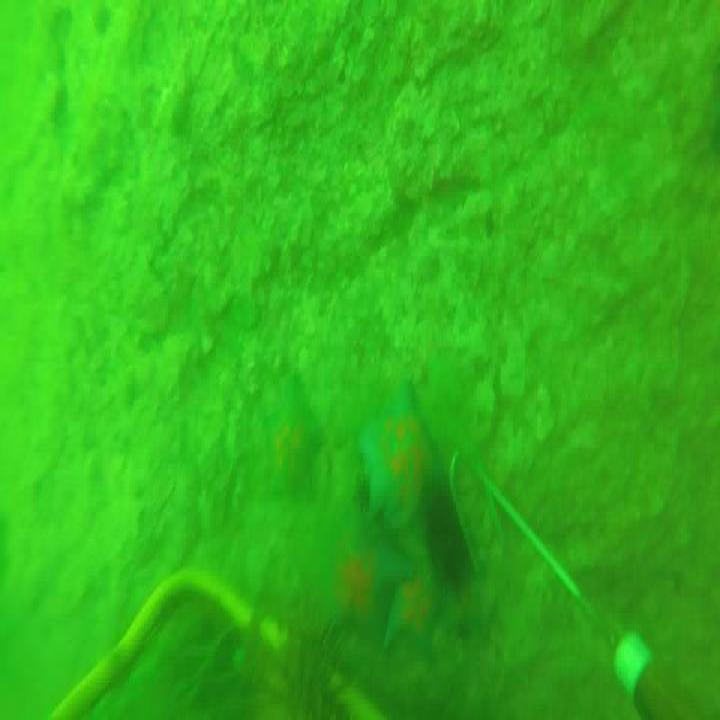echinus: (423, 470, 483, 574)
starfish: (365, 393, 445, 524), (333, 503, 401, 645), (266, 377, 323, 498), (385, 558, 447, 660)
